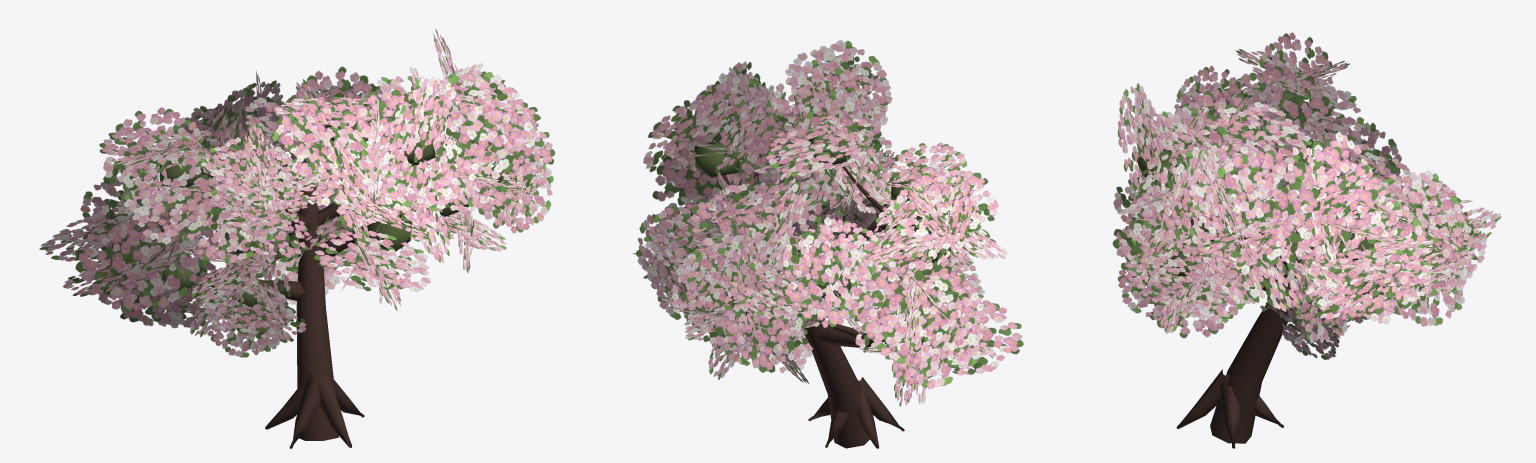
File: nature_cherry.glb
The picture shows the model from 3 angles, left to right: view 1: azimuth 30°, elevation 25°; view 2: azimuth 150°, elevation 25°; view 3: azimuth 270°, elevation 25°; orthographic projection. The views are drawn at different scales.
Parts seen in each view (by area): view 1: nature_cherry; view 2: nature_cherry; view 3: nature_cherry.
Boxes of the visible parts, <box> form: nature_cherry: <box>39,29,554,448</box>; nature_cherry: <box>632,40,1023,448</box>; nature_cherry: <box>1112,32,1501,448</box>.
Bounding box in the file's own units: 6.16 × 5.12 × 5.
3 materials, 1 textured.
